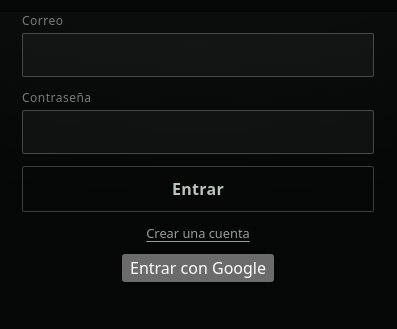
Test case: AccountPanel › usa su propio mensaje si el acceso no se puede hacer
The image size is (397, 329).
In the field labelled "Correo": (198, 55) [22,33,374,77], type "alguien@example.com"
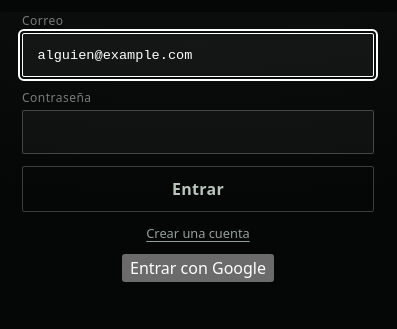
In the password field labelled "Contraseña": (198, 132) [22,110,374,154], type "contrasena-de-pruebas"
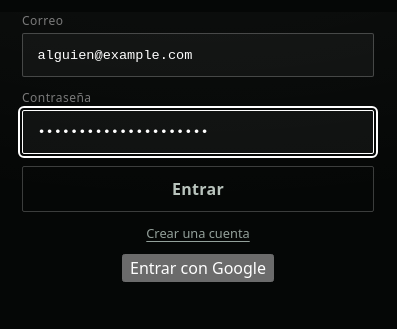
Click the button "Entrar": (198, 189) [22,166,374,212]
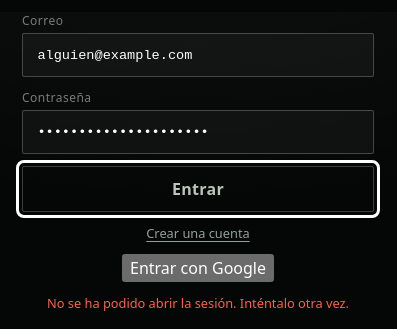
Now the message reads "No se ha podido abrir la sesión. Inténtalo otra vez.", box [47,294,349,312]
